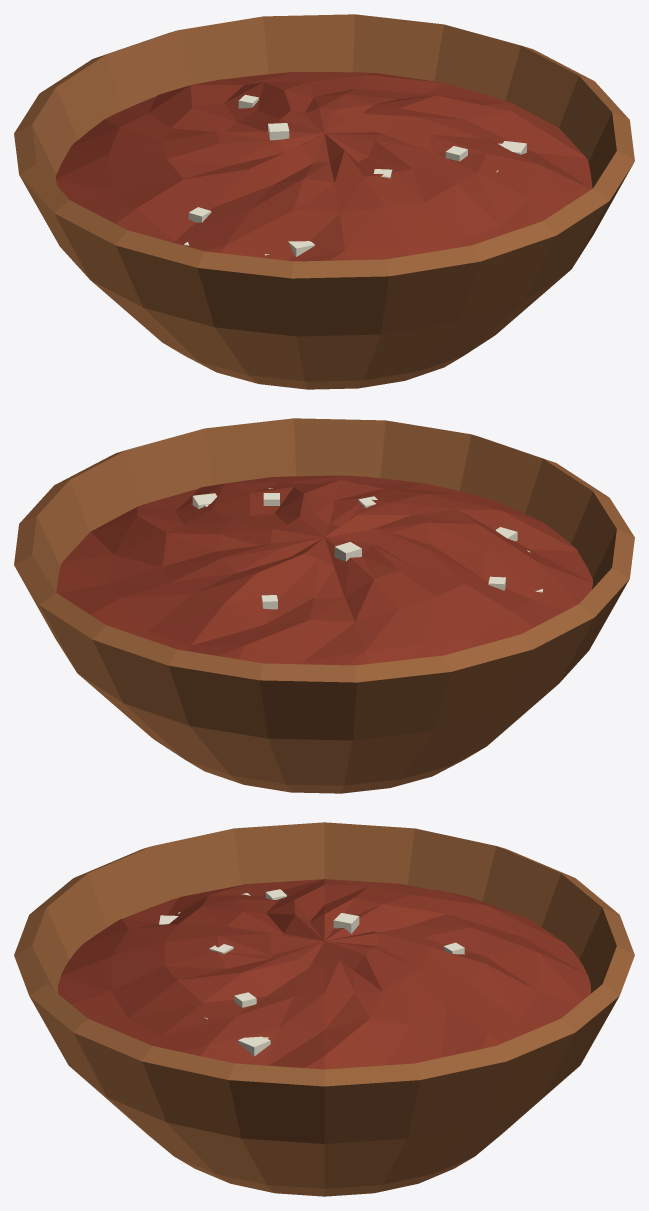
Rendered from MeatBowl.obj.
The picture shows the model from 3 angles, top to bottom: view 1: azimuth 30°, elevation 25°; view 2: azimuth 150°, elevation 25°; view 3: azimuth 270°, elevation 25°; orthographic projection.
Parts seen in each view (by area): view 1: Bowl, GroundMeat; view 2: Bowl, GroundMeat; view 3: Bowl, GroundMeat.
Part boxes in pixels (x1=…): Bowl: x1=14, y1=14, x2=634, y2=389; GroundMeat: x1=56, y1=72, x2=592, y2=261; Bowl: x1=14, y1=418, x2=634, y2=793; GroundMeat: x1=56, y1=475, x2=592, y2=665; Bowl: x1=14, y1=822, x2=634, y2=1196; GroundMeat: x1=58, y1=879, x2=590, y2=1069.
Bounding box in the file's own units: 0.24 × 0.0831 × 0.24.
